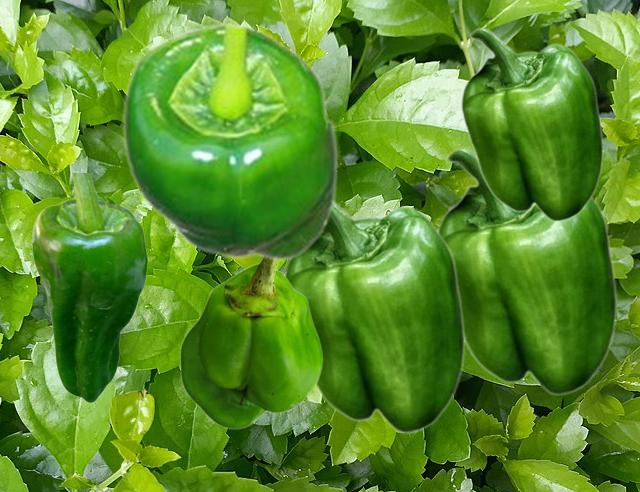bell_pepper: (120, 21, 338, 260), (437, 147, 617, 395), (282, 201, 465, 433), (460, 27, 603, 221), (31, 173, 147, 402), (179, 258, 322, 428)
